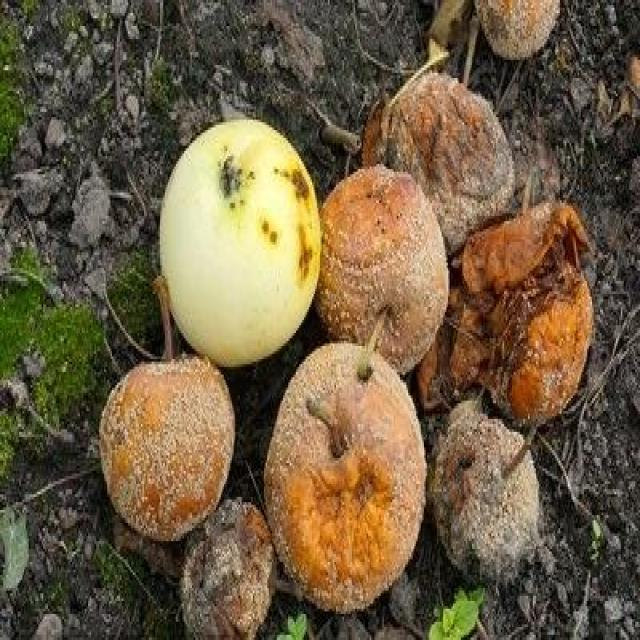Wet Waste: (99, 0, 595, 637)
